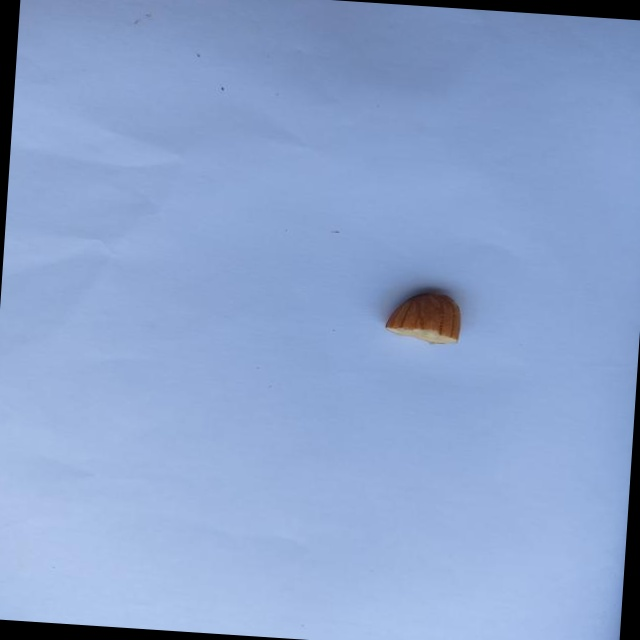grade4: (376, 282, 470, 350)
